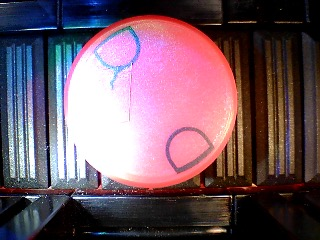CRACK: (62, 15, 238, 188)
